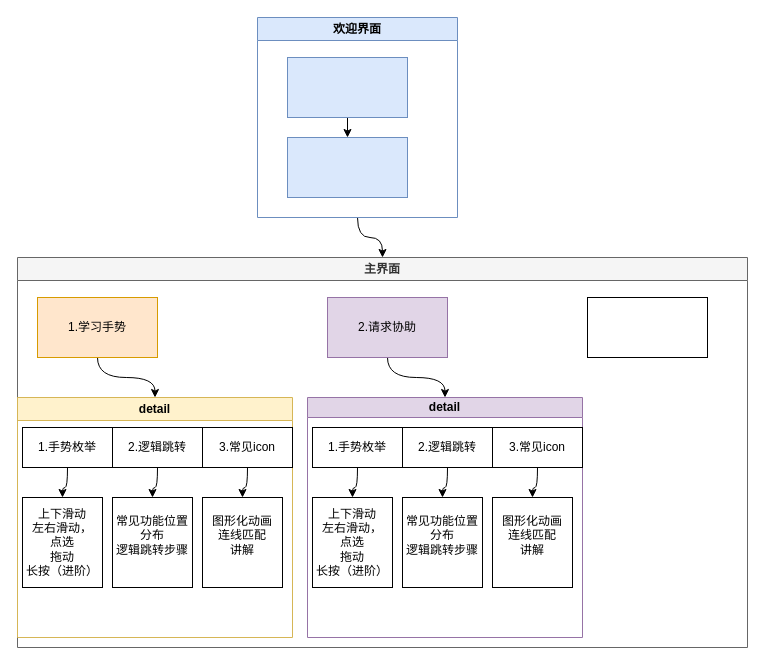
This 765x665 diagram has some shape labels left out. The shapes that lost their labels are listed below. From the top down, each one's centre as x and y in pixels, then its label:
At (x=347, y=87): "动画片引入软件".
At (x=347, y=167): "简单ui交互引导".
At (x=647, y=327): "3.其他模块（待定）".
